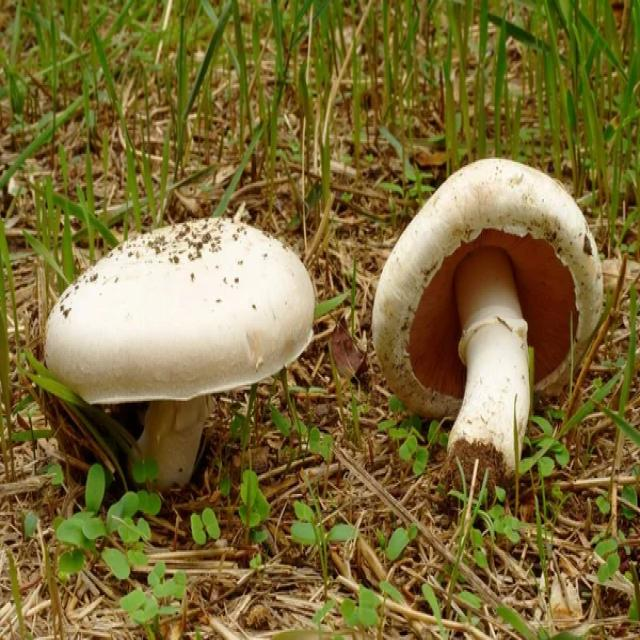field-mushroom: (371, 157, 612, 488), (43, 218, 317, 489)
